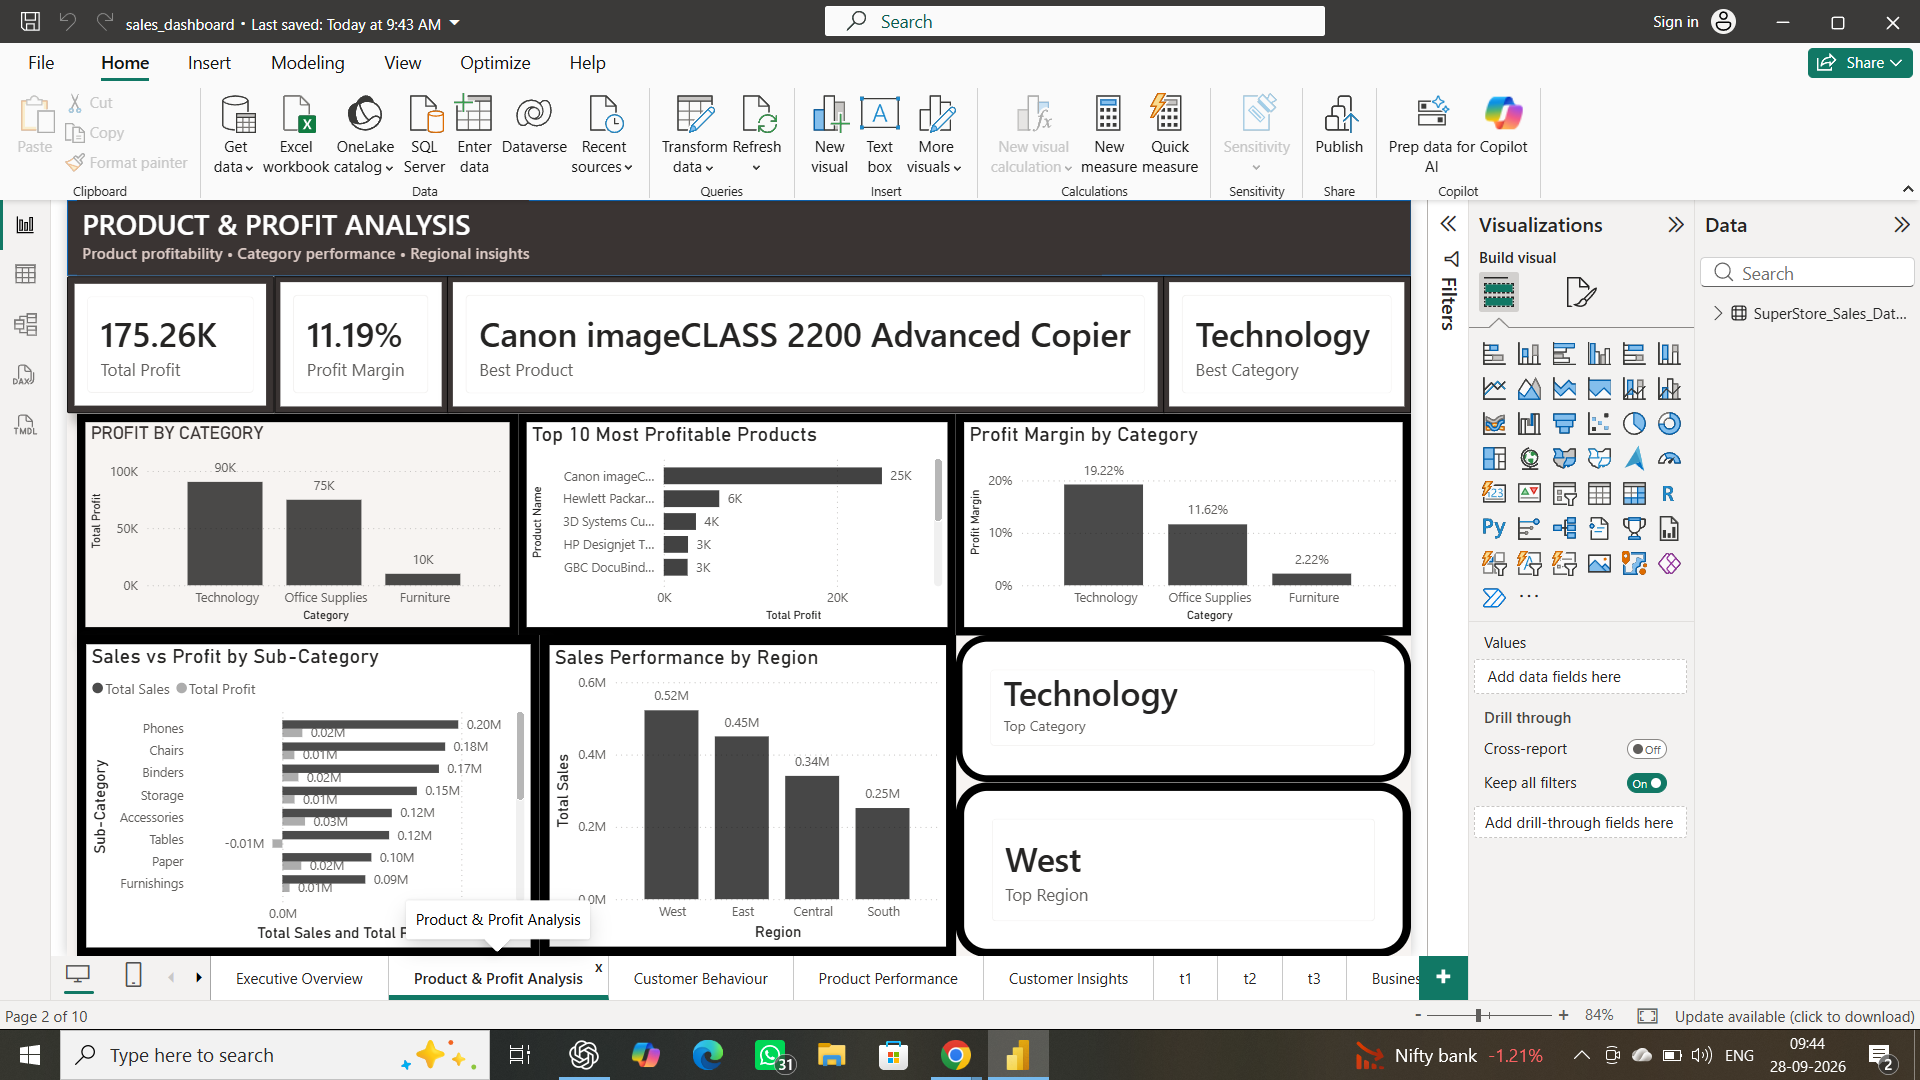

The page's visual inventory and layout, read from the dashboard file:
{"tool":"powerbi","page":{"name":"Product & Profit Analysis","canvas":[1280,720],"ordinal":1},"visuals":[{"type":"shape","box":[0,0,1280.6,72.2],"z":0},{"type":"textbox","box":[9.7,0,430.6,55.6],"z":1000},{"type":"textbox","box":[9.7,36.1,976.4,36.1],"z":2000},{"type":"cardVisual","fields":{"Data":["SuperStore_Sales_Dataset.Total Profit"]},"box":[0,72.2,197.2,130.6],"z":3000},{"type":"cardVisual","fields":{"Data":["SuperStore_Sales_Dataset.Profit Margin"]},"box":[197.2,72.2,165.3,130.6],"z":4000},{"type":"cardVisual","fields":{"Data":["SuperStore_Sales_Dataset.Best Product"]},"box":[362.5,72.2,683.3,130.6],"z":5000},{"type":"cardVisual","fields":{"Data":["SuperStore_Sales_Dataset.Best Category"]},"box":[1044.4,72.2,236.1,130.6],"z":6000},{"type":"clusteredColumnChart","title":"PROFIT BY CATEGORY","fields":{"Category":["SuperStore_Sales_Dataset.Category"],"Y":["SuperStore_Sales_Dataset.Total Profit"]},"box":[9.6,203.1,419.9,211.3],"z":7000},{"type":"clusteredBarChart","title":"Top 10 Most Profitable Products","fields":{"Category":["SuperStore_Sales_Dataset.Product Name"],"Y":["SuperStore_Sales_Dataset.Total Profit"]},"box":[429.5,203.1,417.2,211.3],"z":8000},{"type":"clusteredColumnChart","fields":{"Category":["SuperStore_Sales_Dataset.Category"],"Y":["SuperStore_Sales_Dataset.Profit Margin"]},"box":[846.7,203.1,433.6,211.3],"z":9000},{"type":"clusteredBarChart","title":"Sales vs Profit by Sub-Category","fields":{"Category":["SuperStore_Sales_Dataset.Sub-Category"],"Y":["SuperStore_Sales_Dataset.Total Sales","SuperStore_Sales_Dataset.Total Profit"]},"box":[9.6,414.4,440.5,306],"z":10000},{"type":"clusteredColumnChart","title":"Sales Performance by Region","fields":{"Category":["SuperStore_Sales_Dataset.Region"],"Y":["SuperStore_Sales_Dataset.Total Sales"]},"box":[450,414,397,306],"z":11000},{"type":"cardVisual","fields":{"Data":["SuperStore_Sales_Dataset.Top Category"]},"box":[846.7,414.4,433.6,140],"z":12000},{"type":"cardVisual","fields":{"Data":["SuperStore_Sales_Dataset.Top Region"]},"box":[846.7,554.4,433.6,166],"z":13000}]}

Visuals, with their boxes on the page's 1280x720 design canvas (x1, y1, x2, y2). These are canvas units, not pixel positions in the 1920x1080 screenshot, which may show the page scaled, cropped or inside an application window:
shape: left=0, top=0, right=1281, bottom=72
textbox: left=10, top=0, right=440, bottom=56
textbox: left=10, top=36, right=986, bottom=72
cardVisual - SuperStore_Sales_Dataset.Total Profit: left=0, top=72, right=197, bottom=203
cardVisual - SuperStore_Sales_Dataset.Profit Margin: left=197, top=72, right=362, bottom=203
cardVisual - SuperStore_Sales_Dataset.Best Product: left=362, top=72, right=1046, bottom=203
cardVisual - SuperStore_Sales_Dataset.Best Category: left=1044, top=72, right=1280, bottom=203
"PROFIT BY CATEGORY" clusteredColumnChart: left=10, top=203, right=430, bottom=414
"Top 10 Most Profitable Products" clusteredBarChart: left=430, top=203, right=847, bottom=414
clusteredColumnChart - SuperStore_Sales_Dataset.Category x SuperStore_Sales_Dataset.Profit Margin: left=847, top=203, right=1280, bottom=414
"Sales vs Profit by Sub-Category" clusteredBarChart: left=10, top=414, right=450, bottom=720
"Sales Performance by Region" clusteredColumnChart: left=450, top=414, right=847, bottom=720
cardVisual - SuperStore_Sales_Dataset.Top Category: left=847, top=414, right=1280, bottom=554
cardVisual - SuperStore_Sales_Dataset.Top Region: left=847, top=554, right=1280, bottom=720
